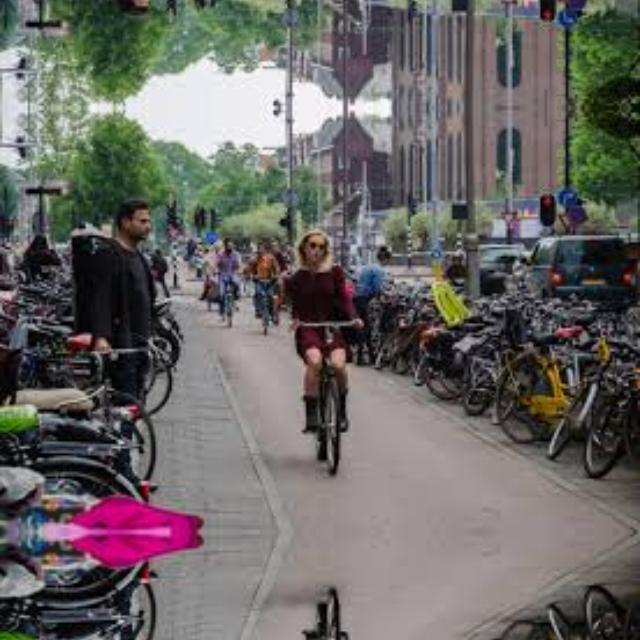obstacle: (284, 318, 368, 480), (284, 583, 367, 640)
